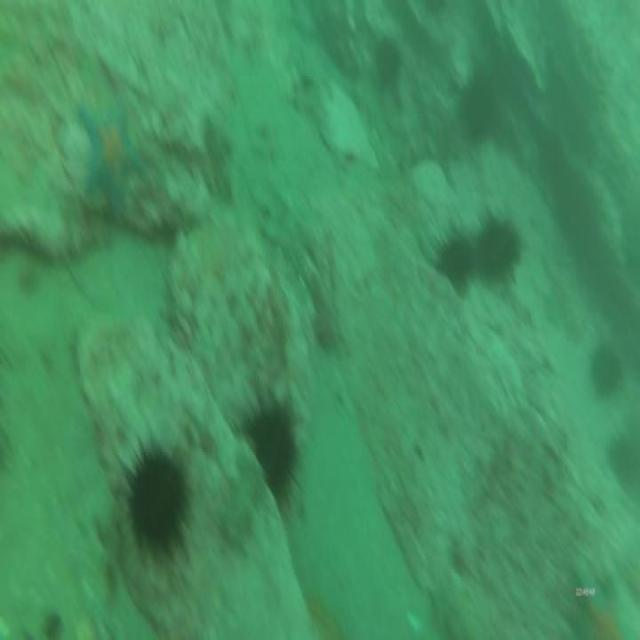echinus: (114, 428, 188, 566), (244, 393, 302, 512), (476, 207, 524, 284), (432, 217, 476, 296), (461, 70, 499, 154), (587, 334, 625, 406), (372, 32, 407, 98), (607, 430, 640, 493), (422, 0, 449, 21)
starfish: (69, 88, 152, 226), (561, 561, 640, 640)
